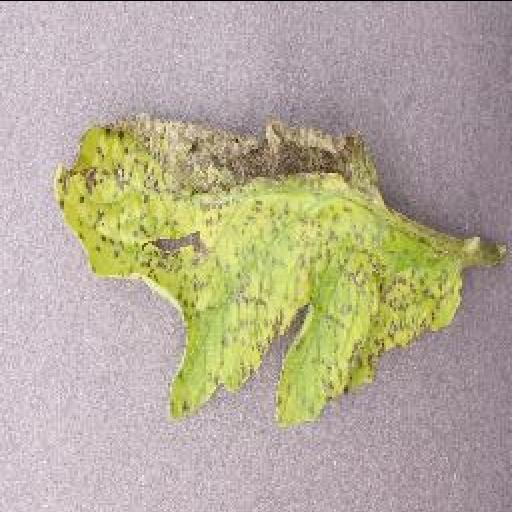disease_tomato: (46, 116, 464, 428)
